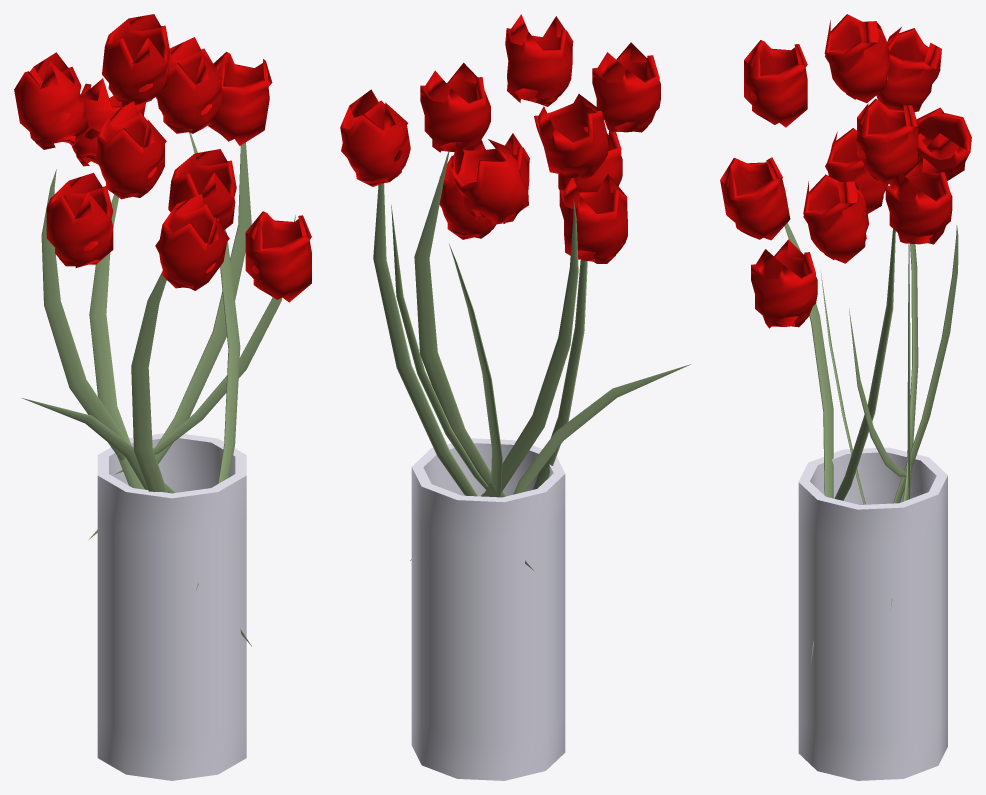
The model's file is sweethome3d-contributions-flowers.glb.
3 views of the same model, side by side, from view 1: azimuth 30°, elevation 25°; view 2: azimuth 150°, elevation 25°; view 3: azimuth 270°, elevation 25° (orthographic). The views are drawn at different scales.
Visible parts, largest first — view 1: Flowers_1, Flowers_3, Flowers_2; view 2: Flowers_1, Flowers_3, Flowers_2; view 3: Flowers_1, Flowers_3, Flowers_2.
Boxes of the visible parts, x1,y1,x2,y2 form: Flowers_1: (97,433,246,780); Flowers_3: (14,14,311,302); Flowers_2: (22,132,295,646); Flowers_1: (411,438,565,780); Flowers_3: (340,14,660,263); Flowers_2: (373,151,691,570); Flowers_1: (798,447,947,780); Flowers_3: (720,14,971,328); Flowers_2: (784,222,958,662).
Bounding box in the file's own units: 39.27 × 93.84 × 29.91.
